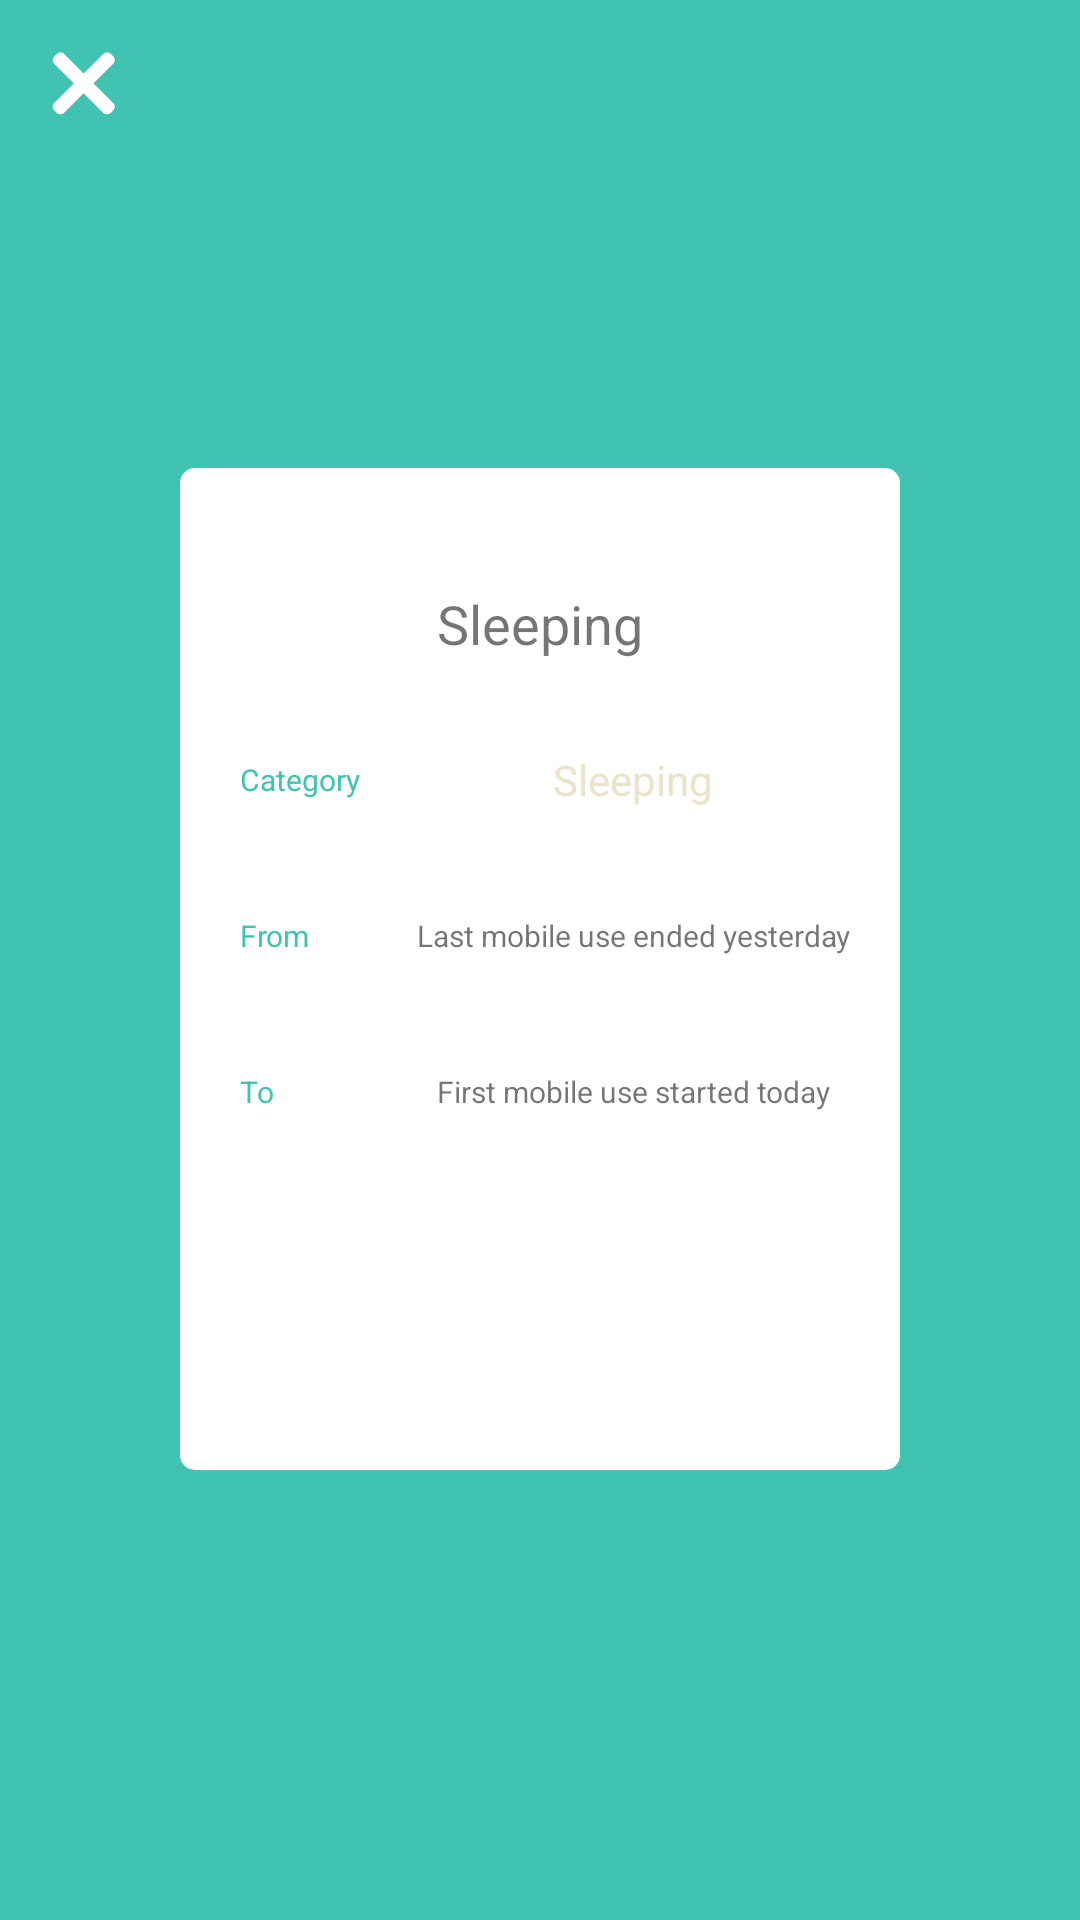

Icon click points for this 1080*1920 phone screenshot, format [x,y]:
close: [83,83]
